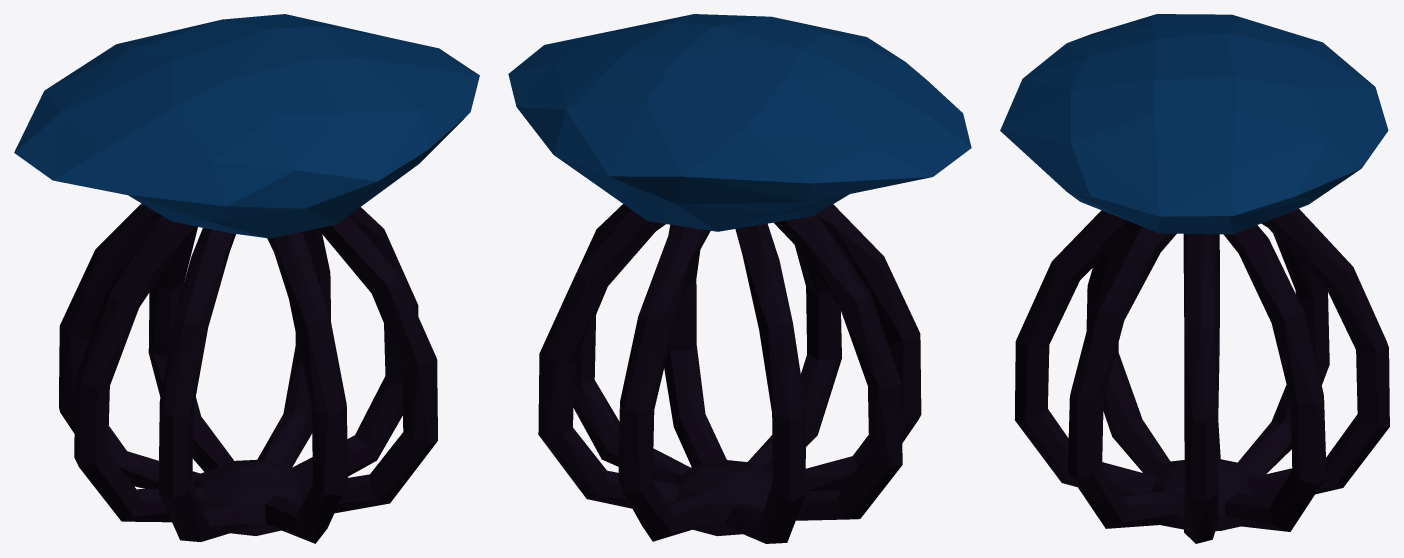
The model's file is Asset2Alive.fbx.
3 views of the same model, side by side, from view 1: azimuth 30°, elevation 25°; view 2: azimuth 150°, elevation 25°; view 3: azimuth 270°, elevation 25° (orthographic). The views are drawn at different scales.
Parts seen in each view (by area): view 1: BezierCurve, Mball.004; view 2: BezierCurve, Mball.004; view 3: BezierCurve, Mball.004.
Part boxes in pixels (x1,y1,x2,y2): BezierCurve: [59, 203, 437, 543]; Mball.004: [14, 14, 479, 238]; BezierCurve: [538, 204, 921, 543]; Mball.004: [508, 14, 971, 231]; BezierCurve: [1014, 208, 1389, 543]; Mball.004: [1000, 14, 1388, 234].
Size of the model in its own units: 792 by 812 by 645.
